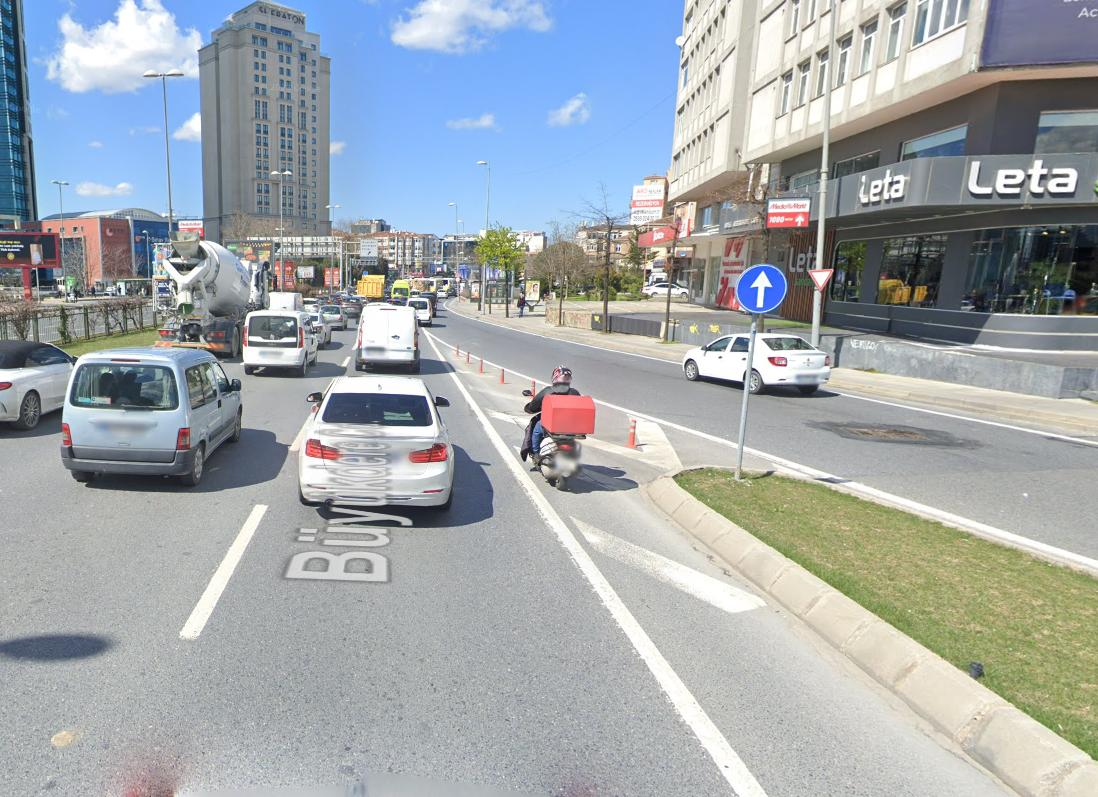forward: (739, 265, 784, 310)
